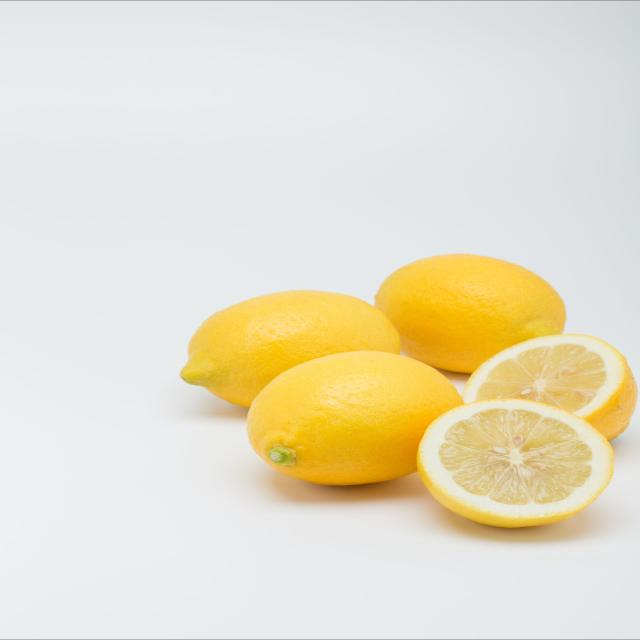lemon: (235, 347, 468, 490), (409, 394, 621, 533)
